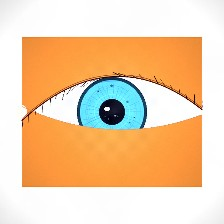pinguecula_lesion: (162, 101, 203, 134)
